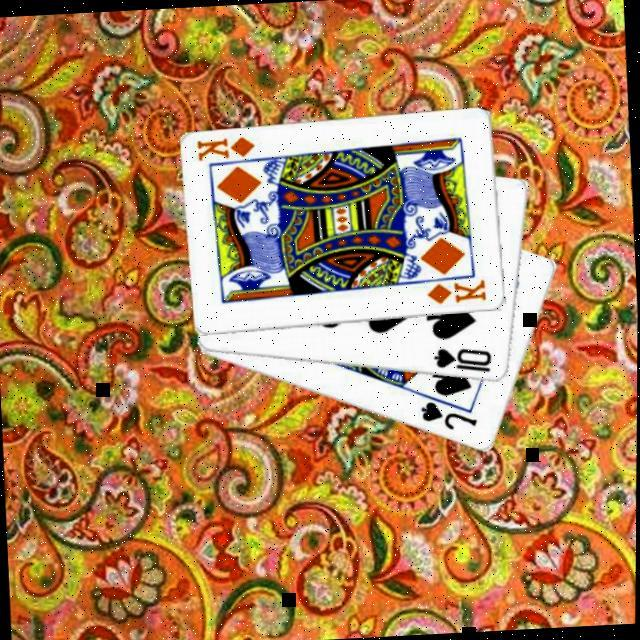10S: (432, 344, 498, 379)
JS: (420, 397, 482, 436)
KD: (427, 278, 492, 308), (196, 134, 260, 164)
